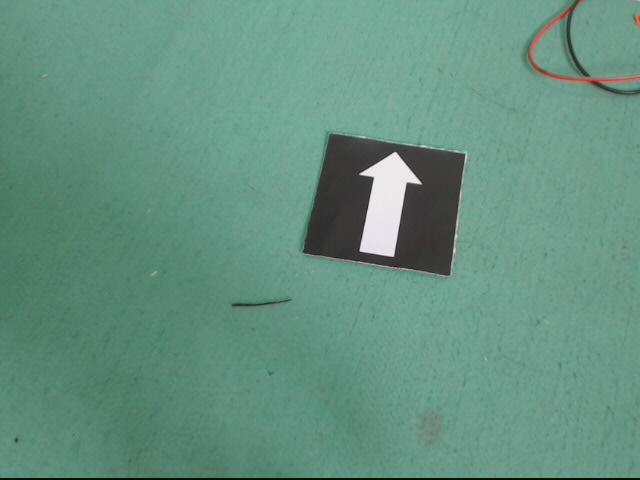straight: (302, 133, 469, 276)
